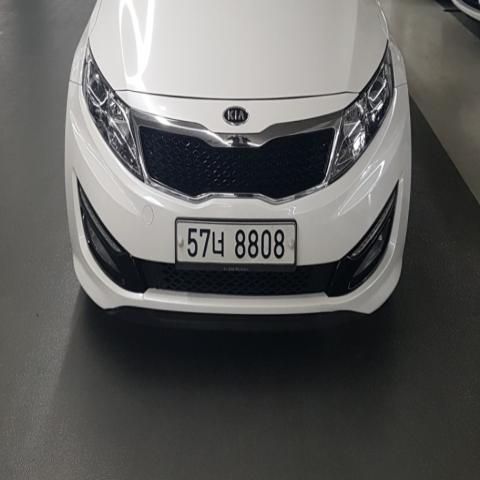LP: (168, 211, 304, 275)
